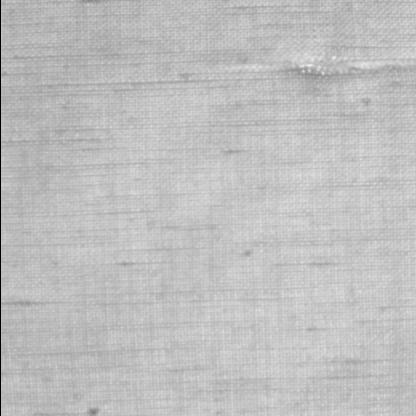thread error: (262, 47, 415, 96)
